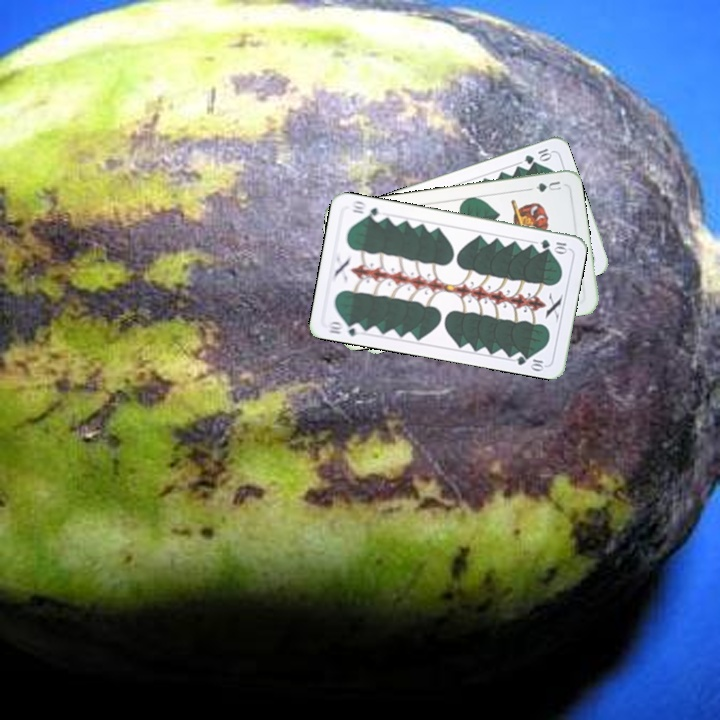G10: (324, 317, 365, 339), (520, 144, 554, 167), (537, 235, 571, 255)
GU: (532, 177, 564, 195)
